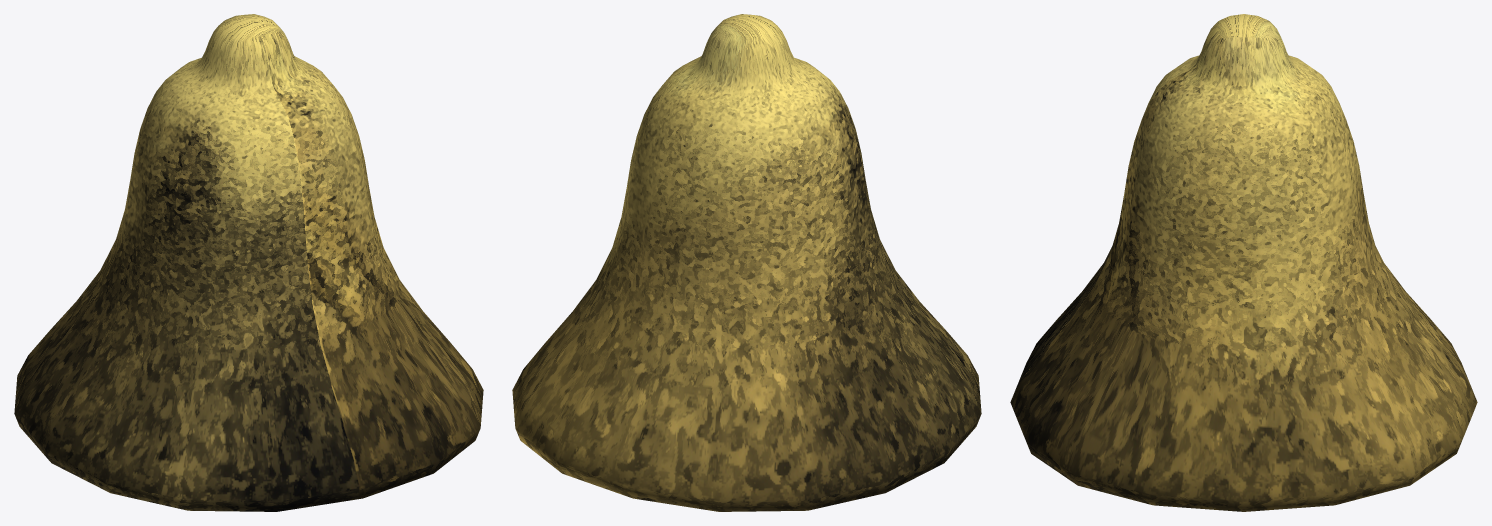
Rendered from bell.fbx.
The picture shows the model from 3 angles, left to right: view 1: azimuth 30°, elevation 25°; view 2: azimuth 150°, elevation 25°; view 3: azimuth 270°, elevation 25°; orthographic projection.
Parts seen in each view (by area): view 1: Cube; view 2: Cube; view 3: Cube.
Part boxes in pixels (left/top/right/bottom): Cube: left=14, top=14, right=483, bottom=511; Cube: left=512, top=14, right=981, bottom=511; Cube: left=1010, top=14, right=1477, bottom=511.
Size of the model in its own units: 318 by 339 by 318.
Materials: 1 (1 with a texture image).
